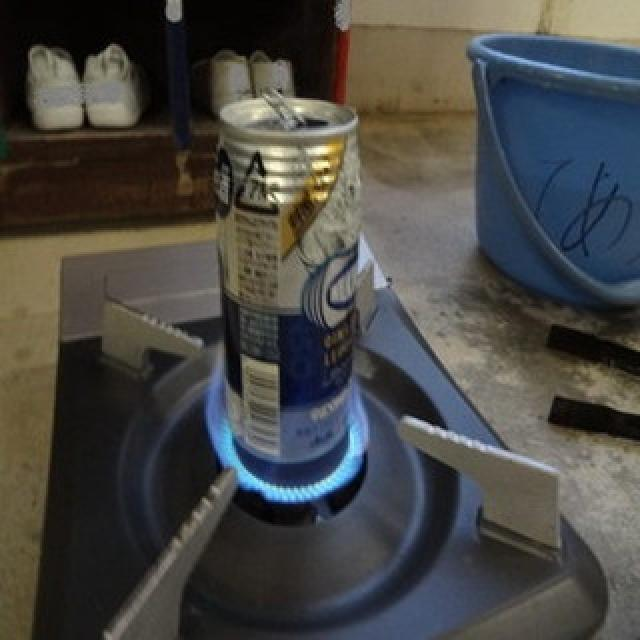can: (216, 79, 372, 482)
